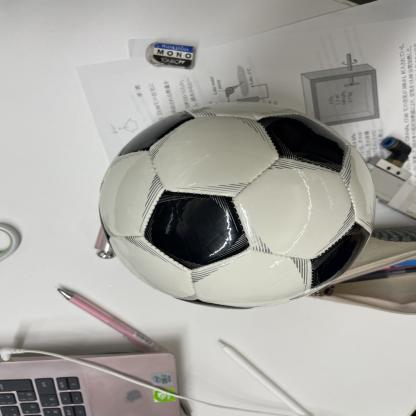ball: (100, 102, 374, 309)
